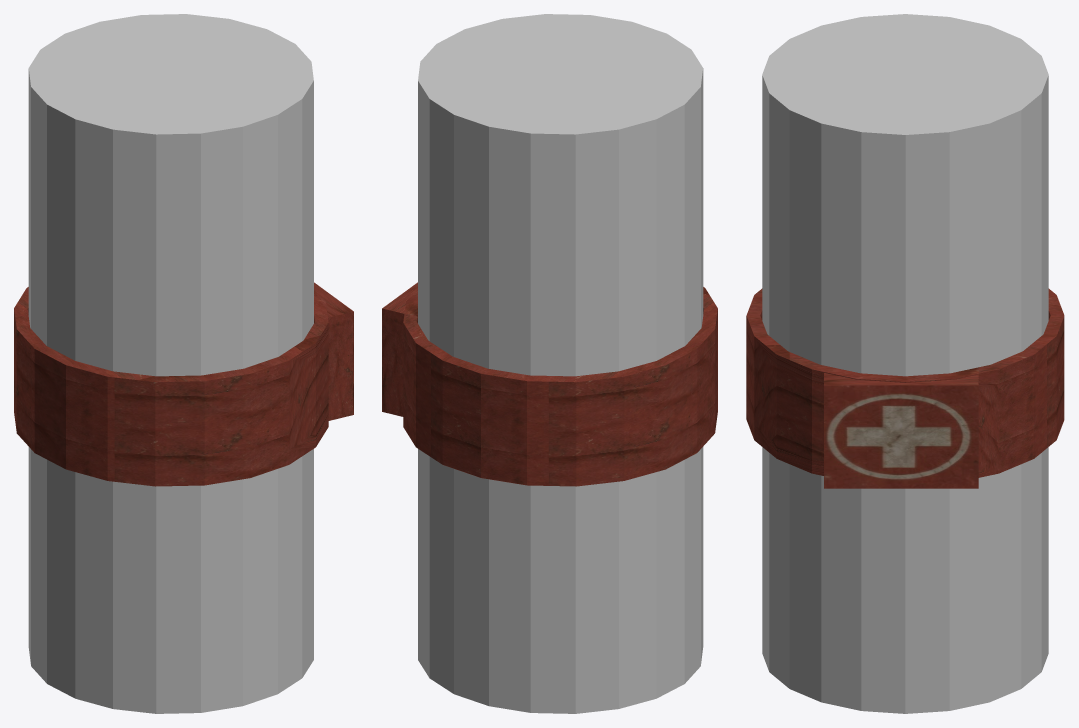
The model's file is bendaje.fbx.
The picture shows the model from 3 angles, left to right: view 1: azimuth 30°, elevation 25°; view 2: azimuth 150°, elevation 25°; view 3: azimuth 270°, elevation 25°; orthographic projection.
Parts seen in each view (by area): view 1: Cylinder; view 2: Cylinder; view 3: Cylinder.
Boxes of the visible parts, <box> form: Cylinder: <box>14,14,353,713</box>; Cylinder: <box>382,14,717,713</box>; Cylinder: <box>746,14,1064,713</box>.
Size of the model in its own units: 224 by 446 by 222.
